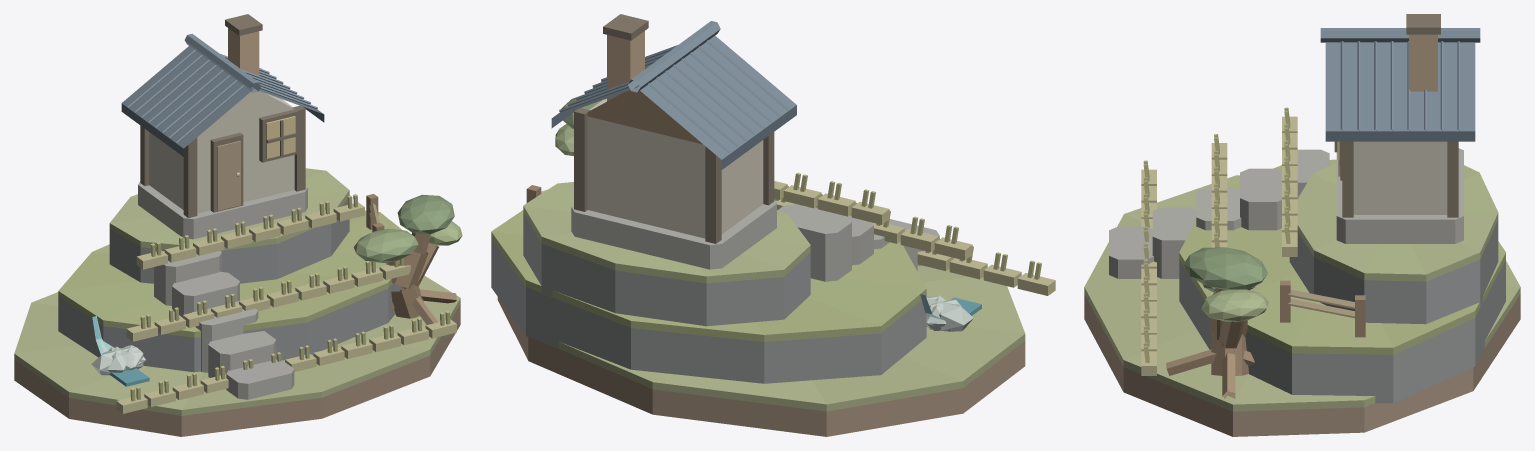
3 renders of one model, left to right at view 1: azimuth 30°, elevation 25°; view 2: azimuth 150°, elevation 25°; view 3: azimuth 270°, elevation 25°, orthographic. The views are drawn at different scales.
Visible parts, largest first — view 1: S19; view 2: S19; view 3: S19.
Part boxes in pixels (box(x1,y1,x2,y2)): S19: box(14, 14, 462, 436); S19: box(491, 14, 1055, 436); S19: box(1084, 14, 1520, 436).
Bounding box in the file's own units: 4.88 × 3.31 × 3.9.
